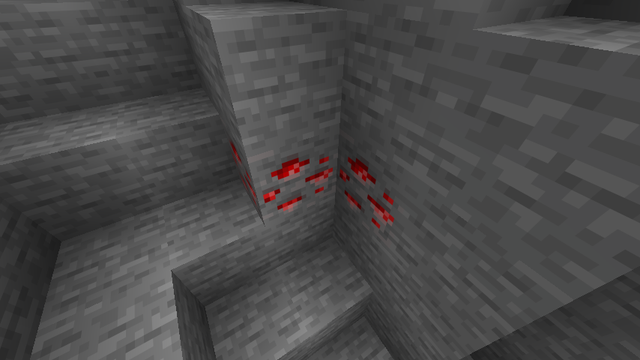redstone: (219, 133, 400, 239)
